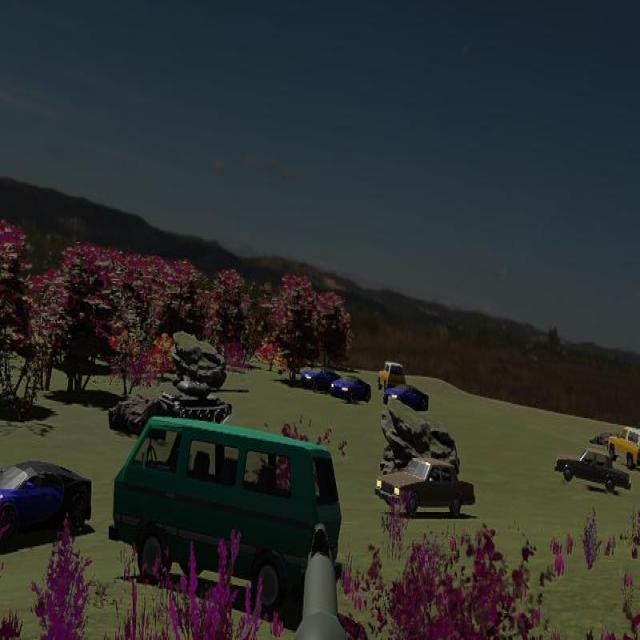Tank: (157, 379, 249, 427)
car: (109, 419, 344, 616), (0, 459, 92, 549), (374, 455, 476, 519), (554, 447, 632, 493), (299, 367, 349, 397), (383, 383, 430, 414), (608, 426, 640, 468), (332, 374, 372, 404), (378, 361, 406, 394)
